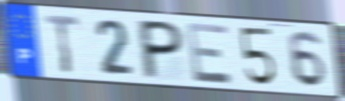2: (94, 18, 136, 78)
5: (238, 25, 277, 87)
6: (286, 30, 329, 90)
E: (184, 21, 236, 86)
P: (140, 18, 186, 81)
T: (42, 13, 82, 76)
